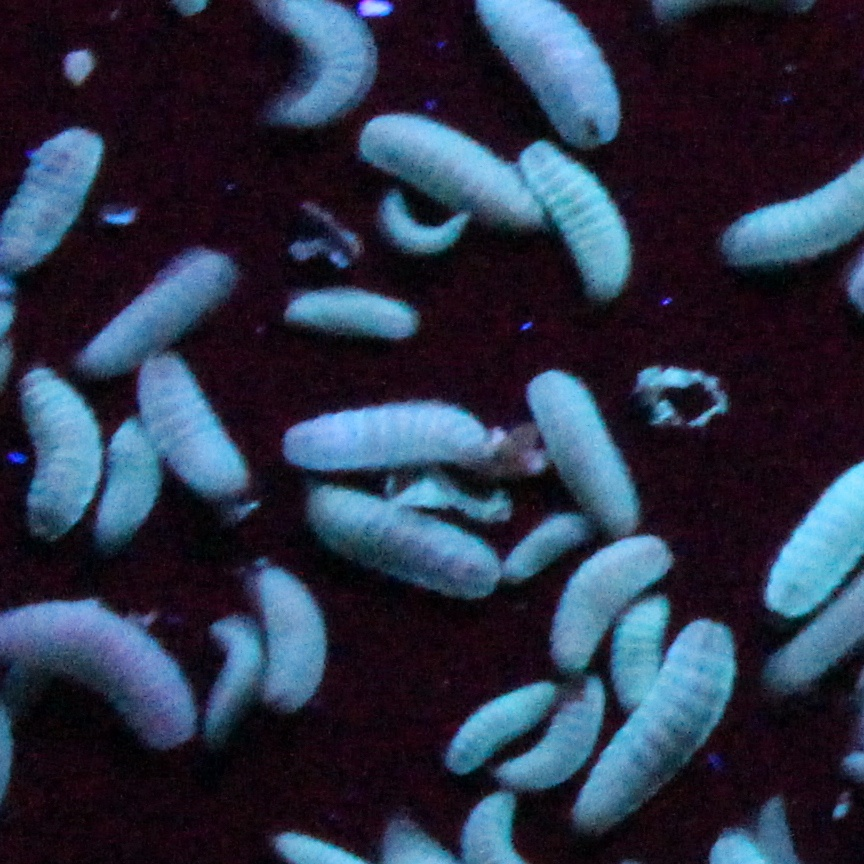larve: (573, 613, 748, 850), (307, 482, 499, 593), (354, 113, 540, 219), (87, 242, 238, 370), (528, 148, 636, 307), (560, 531, 677, 670), (532, 374, 634, 521), (283, 405, 507, 470), (150, 360, 254, 497), (22, 358, 101, 538), (505, 678, 612, 787), (256, 566, 320, 717), (442, 685, 536, 768), (285, 289, 424, 340), (616, 580, 671, 701), (107, 407, 156, 540), (505, 511, 591, 580), (209, 621, 254, 736)
